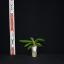leaf: (34, 40, 47, 45), (19, 40, 35, 44), (25, 42, 34, 47), (35, 43, 43, 48), (34, 39, 45, 42), (29, 37, 34, 42), (28, 46, 34, 50), (28, 45, 34, 49), (36, 45, 41, 47)
